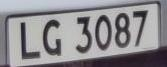0: (91, 10, 114, 56)
3: (71, 12, 94, 59)
7: (130, 6, 150, 50)
8: (112, 8, 134, 53)
G: (40, 15, 65, 62)
L: (15, 18, 42, 64)
